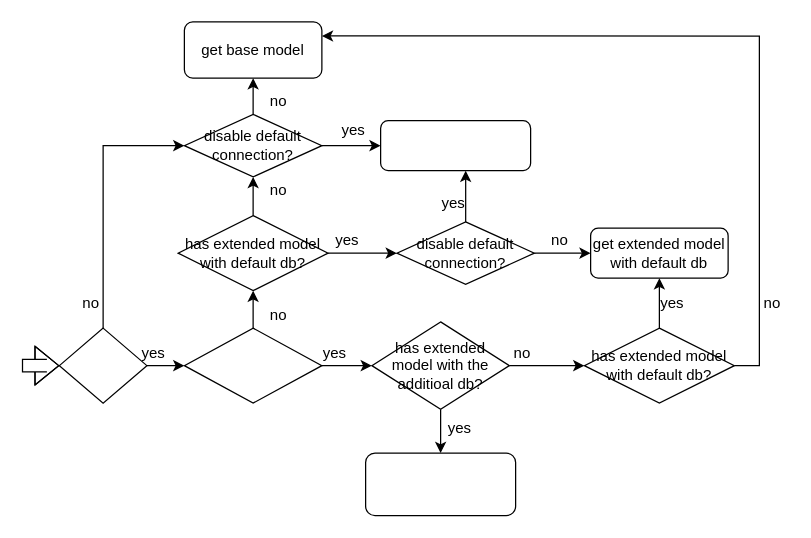
Image size: 811x538. Some labels were removed from this diagram. The shapes that lost their labels are listed below. From the top down, each one's box as (x1, y1, x2, y2) in pixels, then its label:
(379, 119, 531, 171): can't get any model
(58, 327, 147, 403): security?
(183, 327, 322, 403): has permission to additional db?
(364, 452, 516, 516): get extended model with additional db
